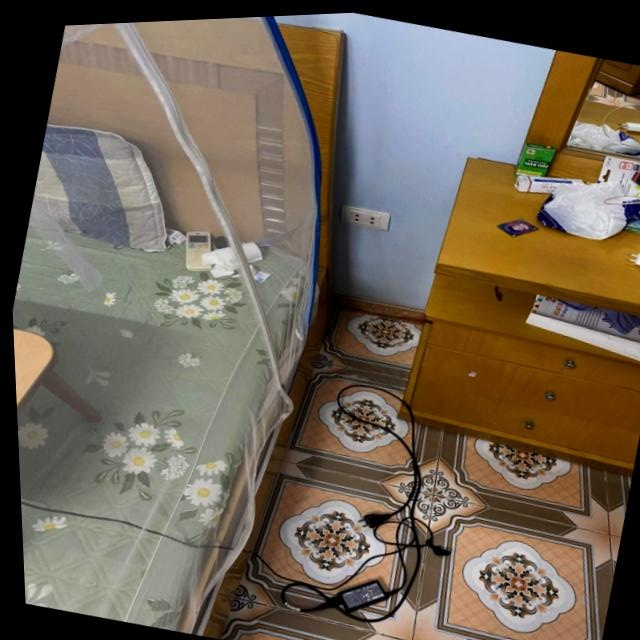outlet: (339, 201, 394, 234)
